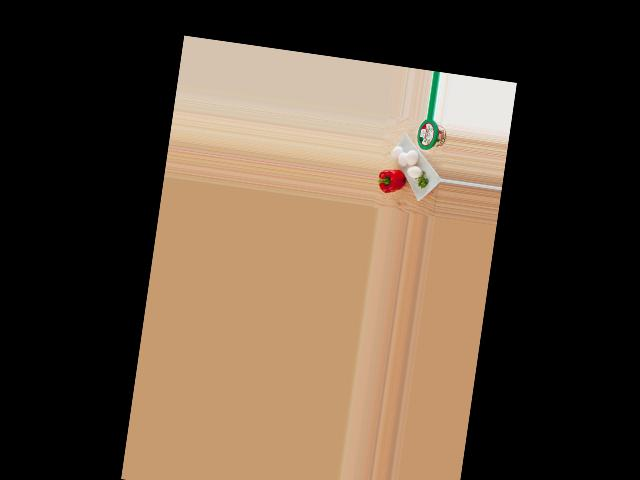bell_pepper: (377, 163, 407, 197)
